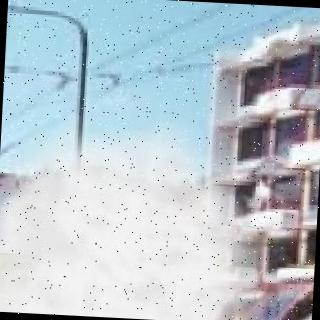smoke: (0, 141, 294, 320)
